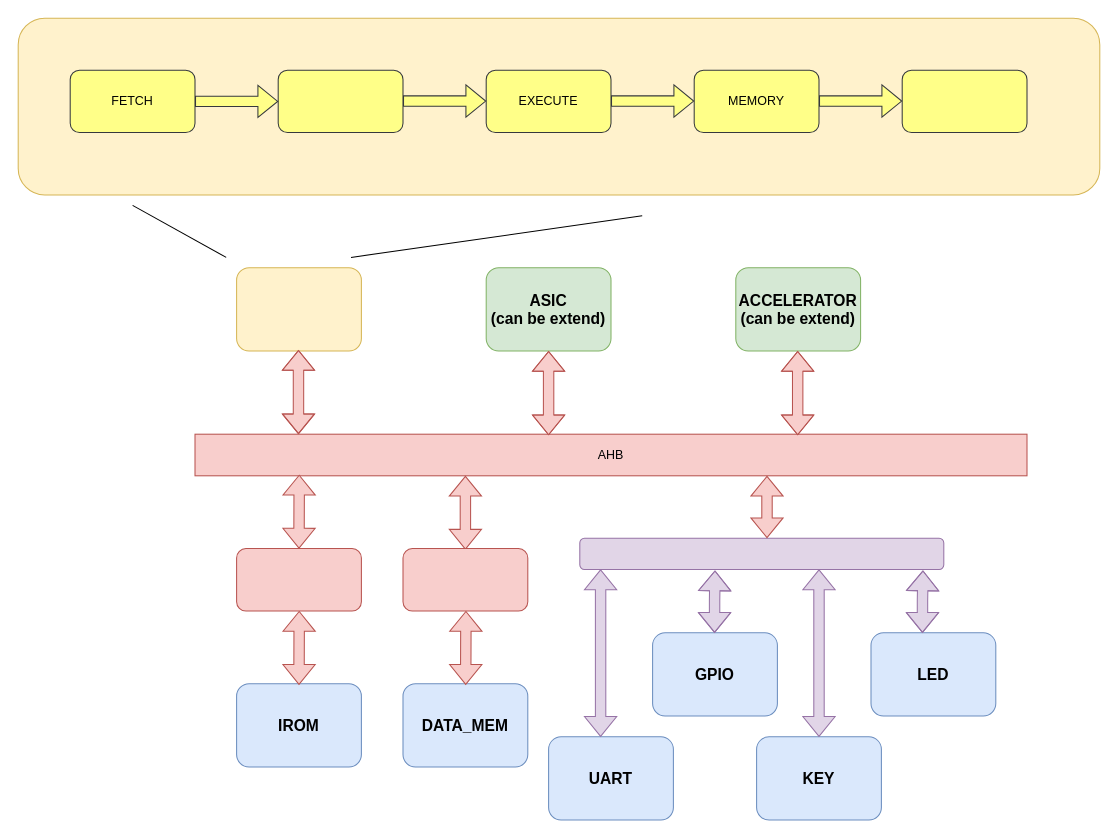
The diagram is 1118 pixels wide and 838 high, and some of its shapes have lost their labels. The centre of each missing label's shape, as x and y in pixels:
"APB-AHB bridge (TODO)" goes at point 761,553.
"Bram_controrller" goes at point 465,579.
"cpu" goes at point 298,309.
"DECODE" goes at point 340,101.
"Iram_controrller" goes at point 298,579.
"WRITEBACK" goes at point 964,101.
